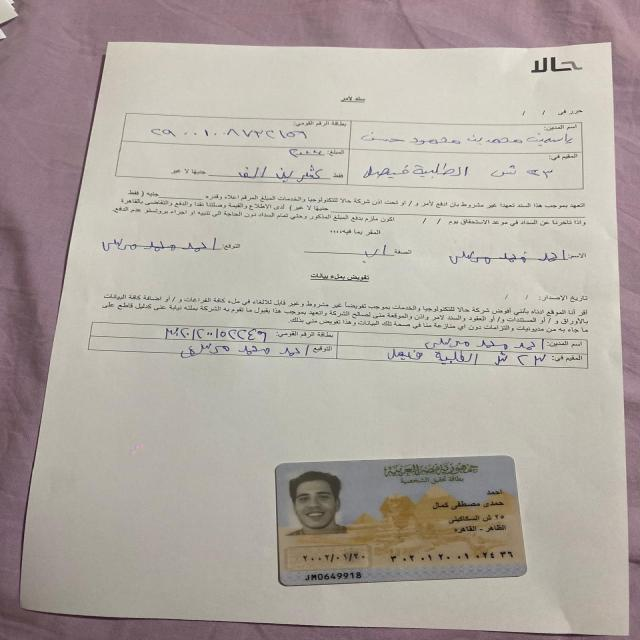id_card: (271, 451, 534, 590)
